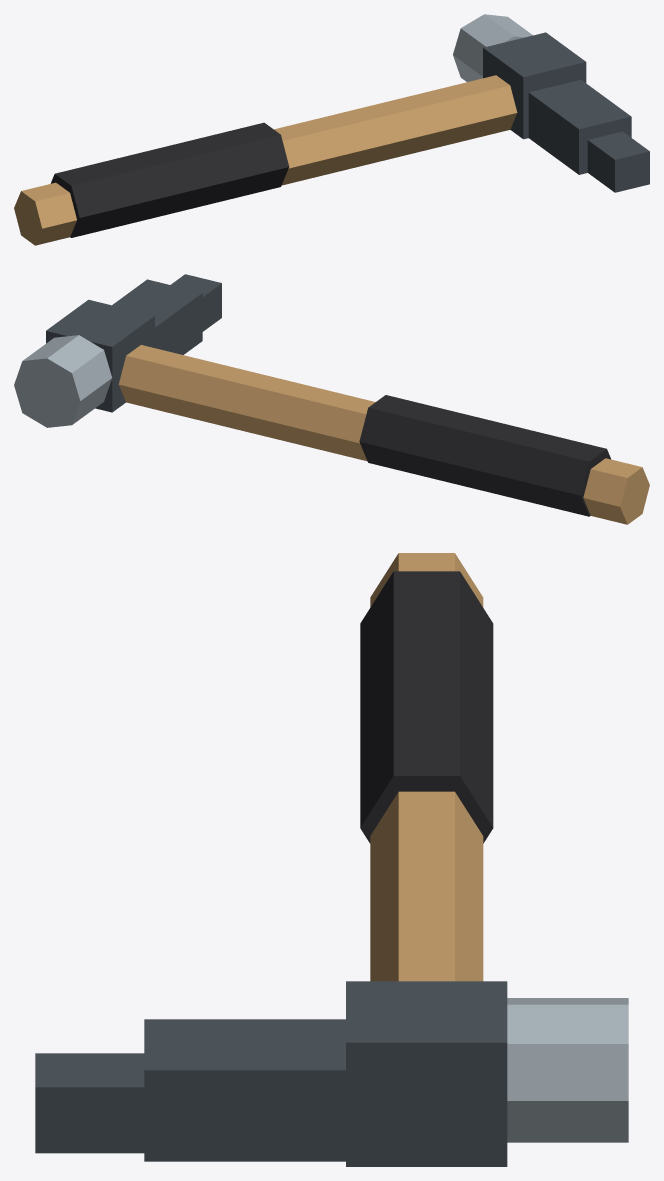
Rendered from GT_Hammer_01.glb.
The picture shows the model from 3 angles, top to bottom: view 1: azimuth 30°, elevation 25°; view 2: azimuth 150°, elevation 25°; view 3: azimuth 270°, elevation 25°; orthographic projection. The views are drawn at different scales.
Parts seen in each view (by area): view 1: GT_Hammer_01; view 2: GT_Hammer_01; view 3: GT_Hammer_01.
Part boxes in pixels (box(x1,y1,x2,y2)): GT_Hammer_01: box(14, 14, 649, 245); GT_Hammer_01: box(14, 274, 649, 524); GT_Hammer_01: box(35, 553, 628, 1166).
Bounding box in the file's own units: 0.308 × 0.036 × 0.147.
1 material, 1 textured.
